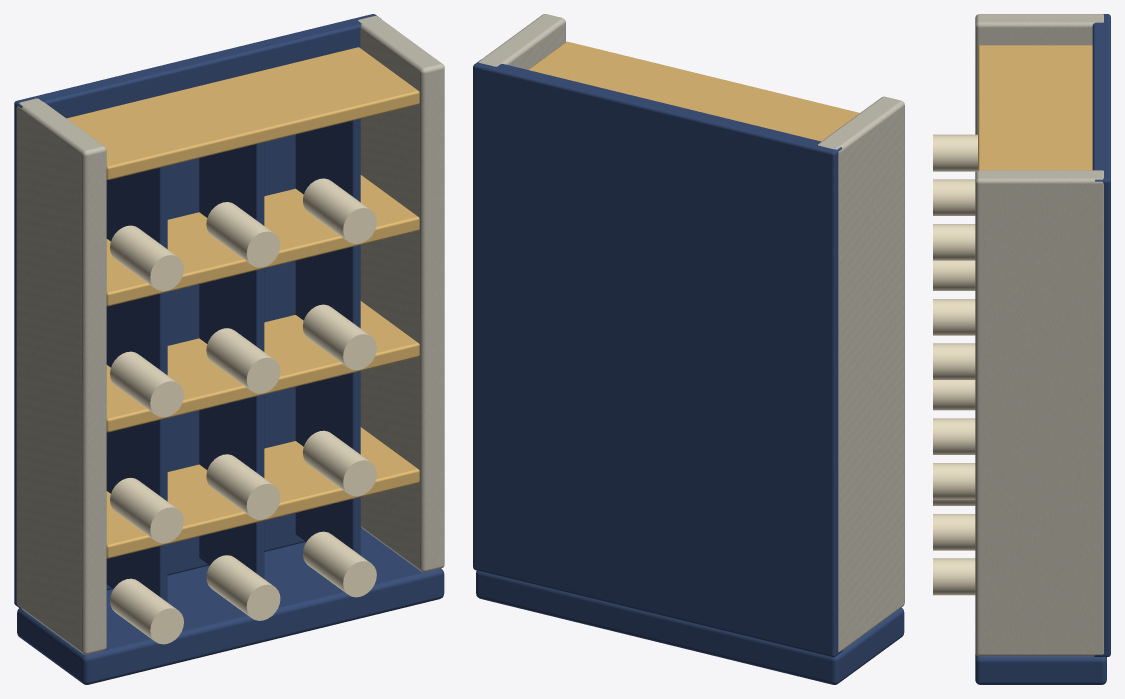
Rendered from arcane-academy-and-spell-trials-scroll-pigeonholes-0f1b5522__28295.glb.
3 renders of one model, left to right at view 1: azimuth 30°, elevation 25°; view 2: azimuth 150°, elevation 25°; view 3: azimuth 270°, elevation 25°, orthographic. The views are drawn at different scales.
Parts seen in each view (by area): view 1: scroll-pigeonholes; view 2: scroll-pigeonholes; view 3: scroll-pigeonholes.
Boxes of the visible parts, x1,y1,x2,y2 form: scroll-pigeonholes: (14,14,444,684); scroll-pigeonholes: (473,14,904,684); scroll-pigeonholes: (933,14,1110,684).
Size of the model in its own units: 1.5 by 2.12 by 0.6749.
4 materials, 1 textured.
